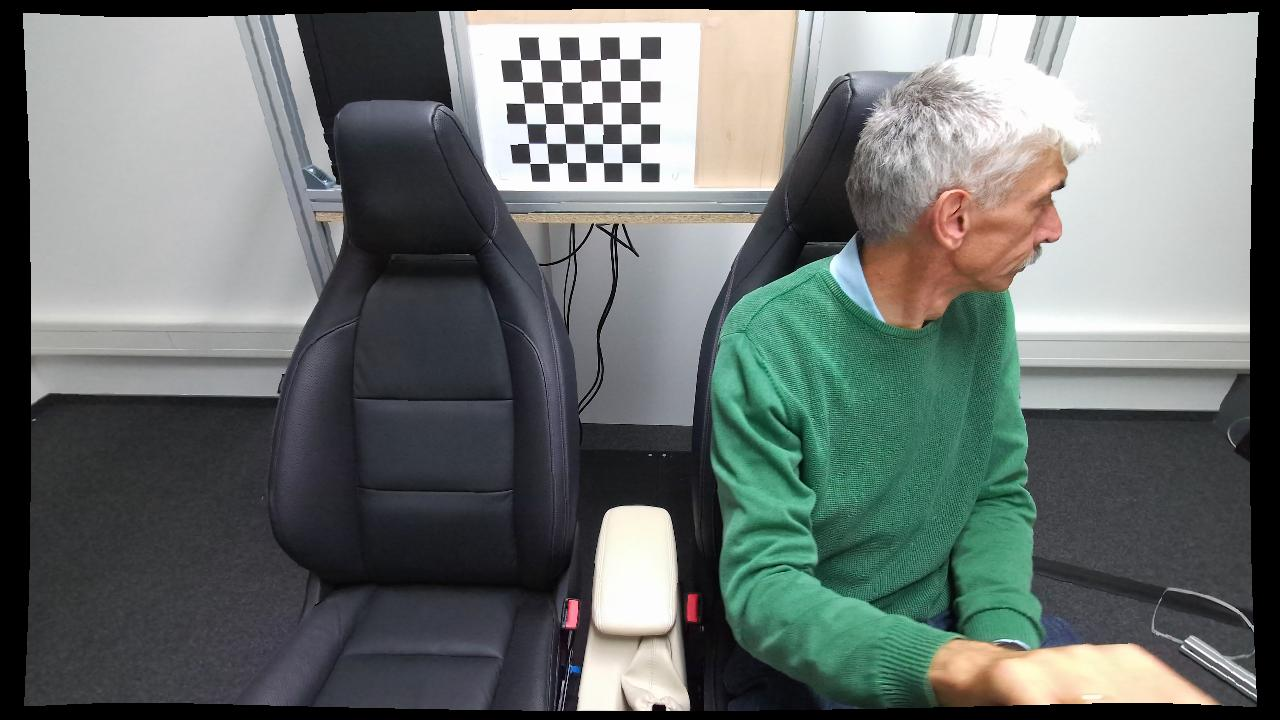Distracted: (707, 56, 1156, 710)
